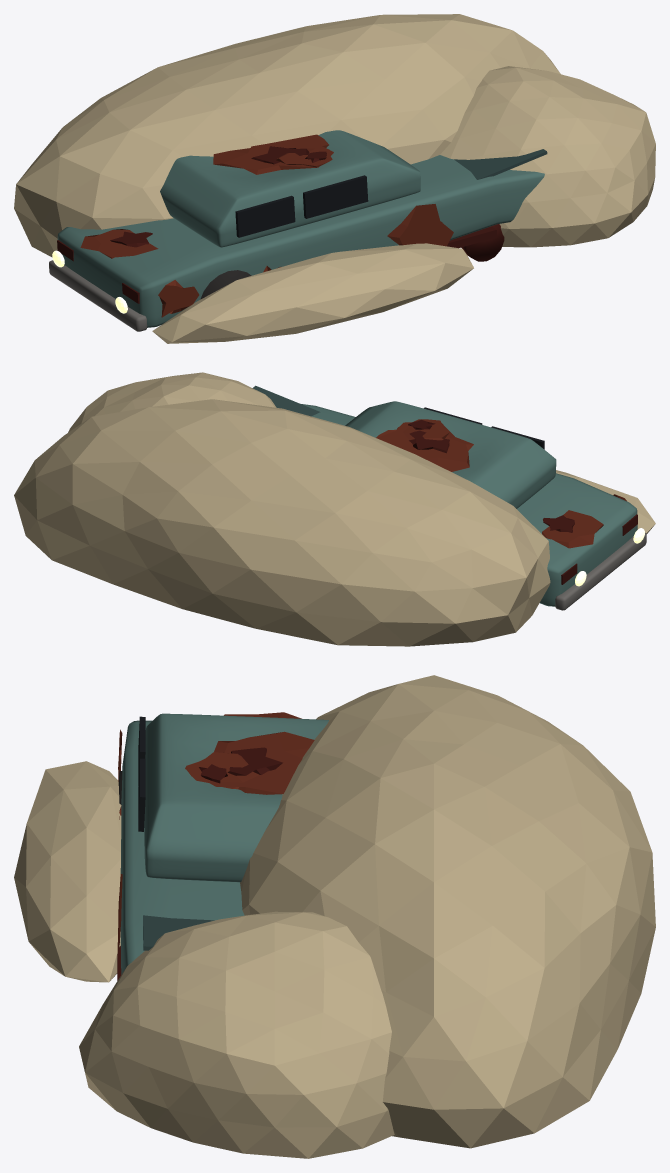
File: desert_buried_car.glb
3 renders of one model, top to bottom at view 1: azimuth 30°, elevation 25°; view 2: azimuth 150°, elevation 25°; view 3: azimuth 270°, elevation 25°, orthographic. The views are drawn at different scales.
Visible parts, largest first — view 1: desert_buried_car; view 2: desert_buried_car; view 3: desert_buried_car.
Part boxes in pixels (bbox=[...]): desert_buried_car: bbox=[14, 14, 655, 343]; desert_buried_car: bbox=[14, 372, 655, 646]; desert_buried_car: bbox=[14, 675, 655, 1158].
Bounding box in the file's own units: 6.27 × 1.81 × 4.43.
